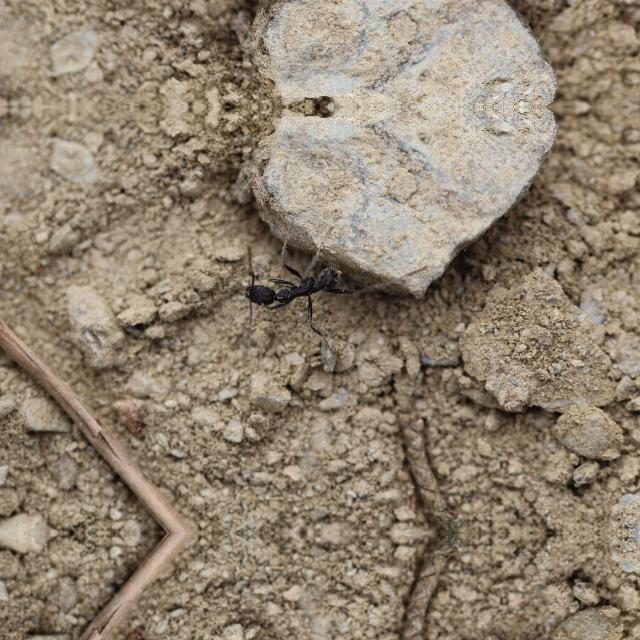Apheanogaster: (228, 253, 364, 323)
